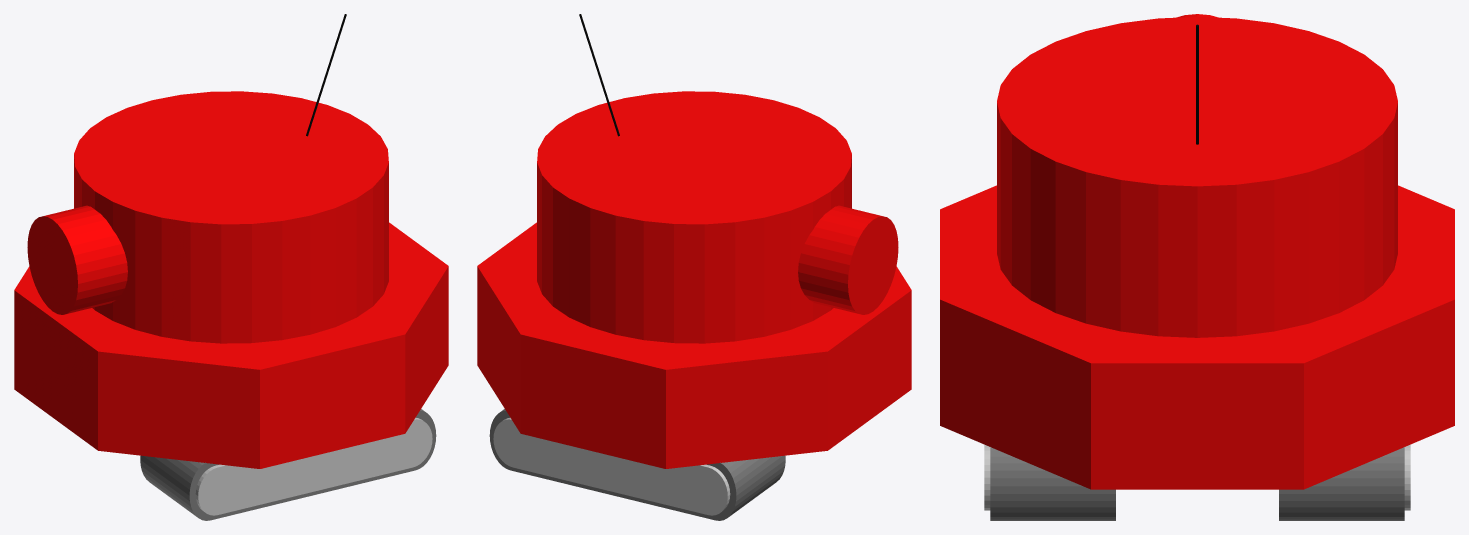
File: tank_red.dae
3 views of the same model, side by side, from view 1: azimuth 30°, elevation 25°; view 2: azimuth 150°, elevation 25°; view 3: azimuth 270°, elevation 25° (orthographic). The views are drawn at different scales.
Parts seen in each view (by area): view 1: body, leg; view 2: body, leg; view 3: body, leg.
Boxes of the visible parts, x1,y1,x2,y2 form: body: [27, 14, 388, 343]; leg: [14, 222, 448, 520]; body: [537, 14, 898, 343]; leg: [477, 222, 911, 520]; body: [997, 14, 1397, 337]; leg: [940, 185, 1454, 520].
Bounding box in the file's own units: 0.0291 × 0.0288 × 0.0309.
